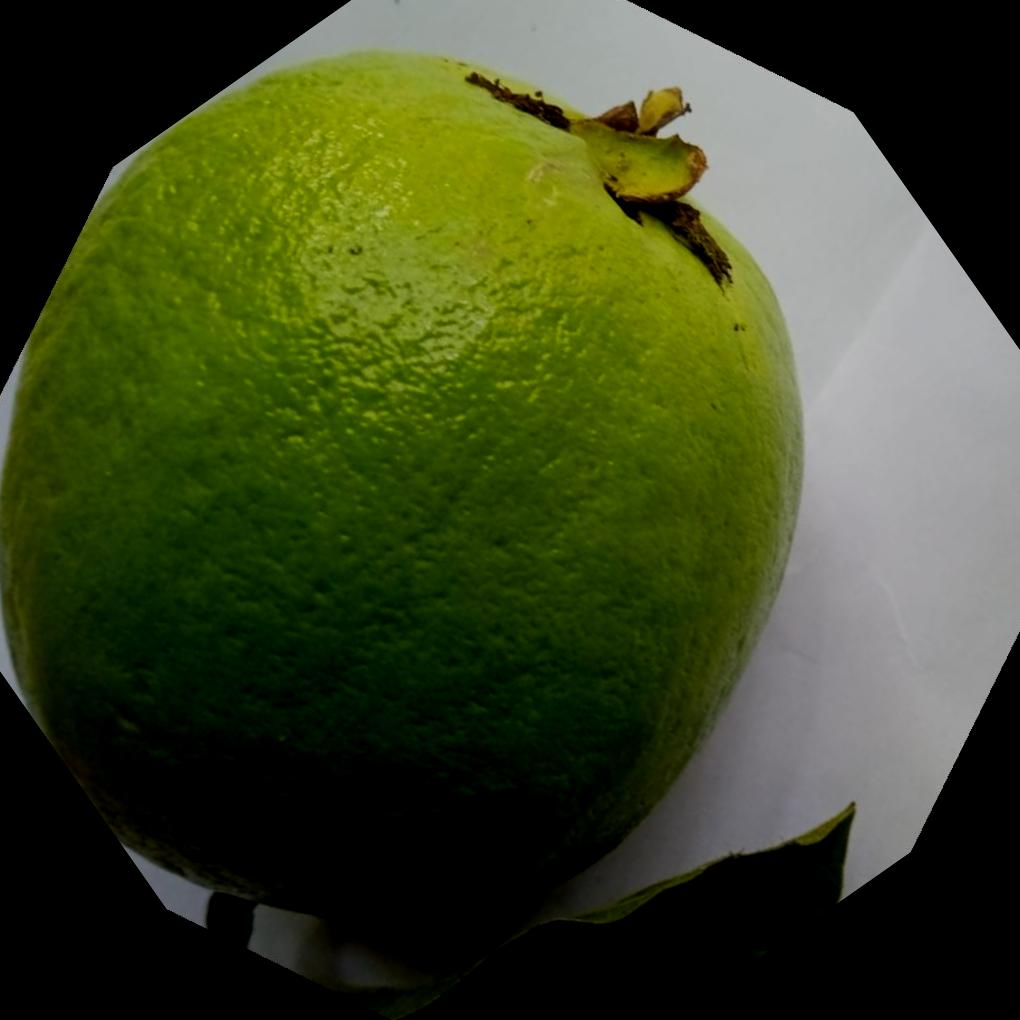FreshGuava: (0, 44, 809, 927)
